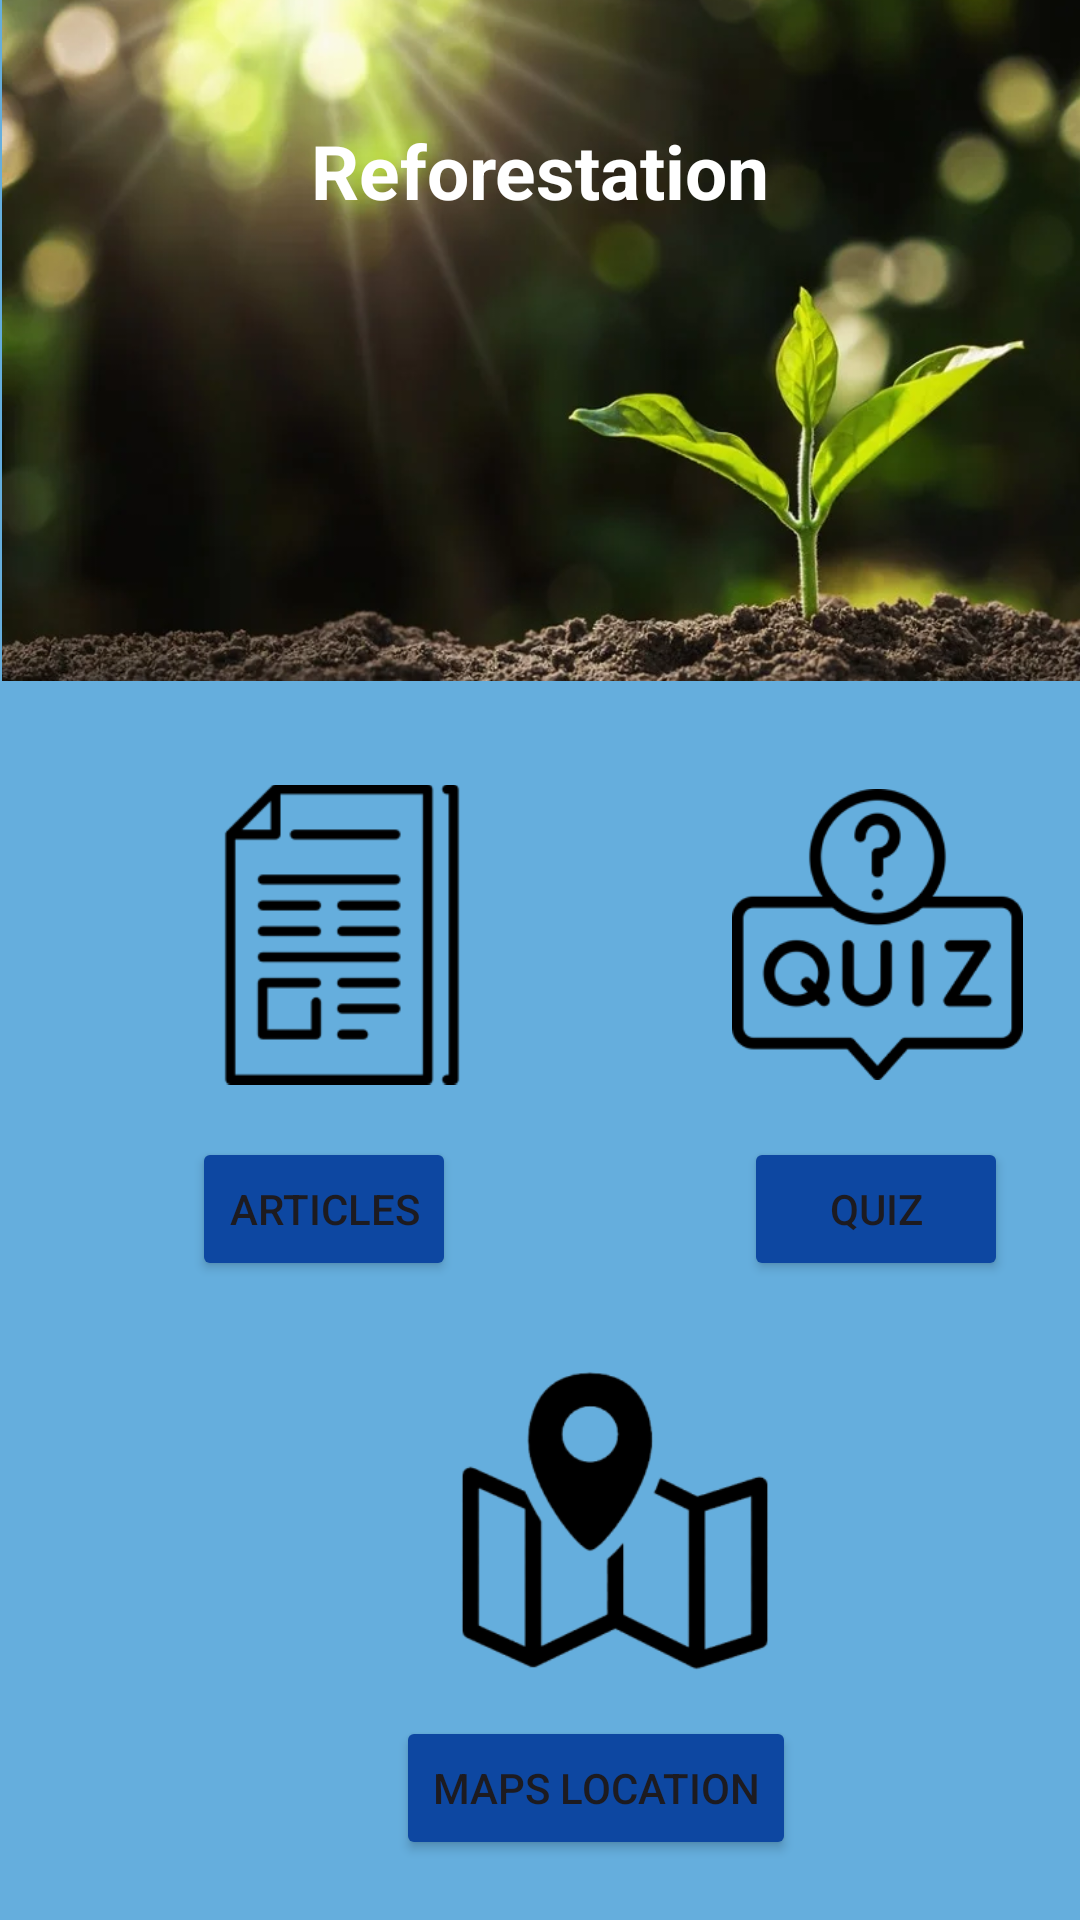

Icons on this 1080×1920 Android screen, each with the point to tap as [x,y]:
map: [615,1520]
